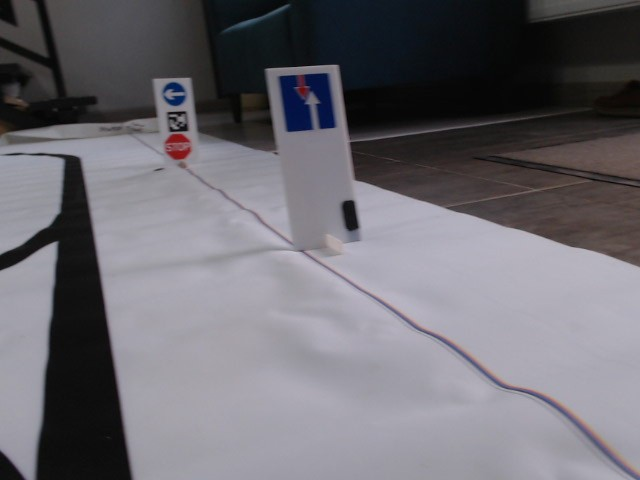Stop: (163, 132, 191, 161)
priority_movement: (282, 73, 337, 133)
